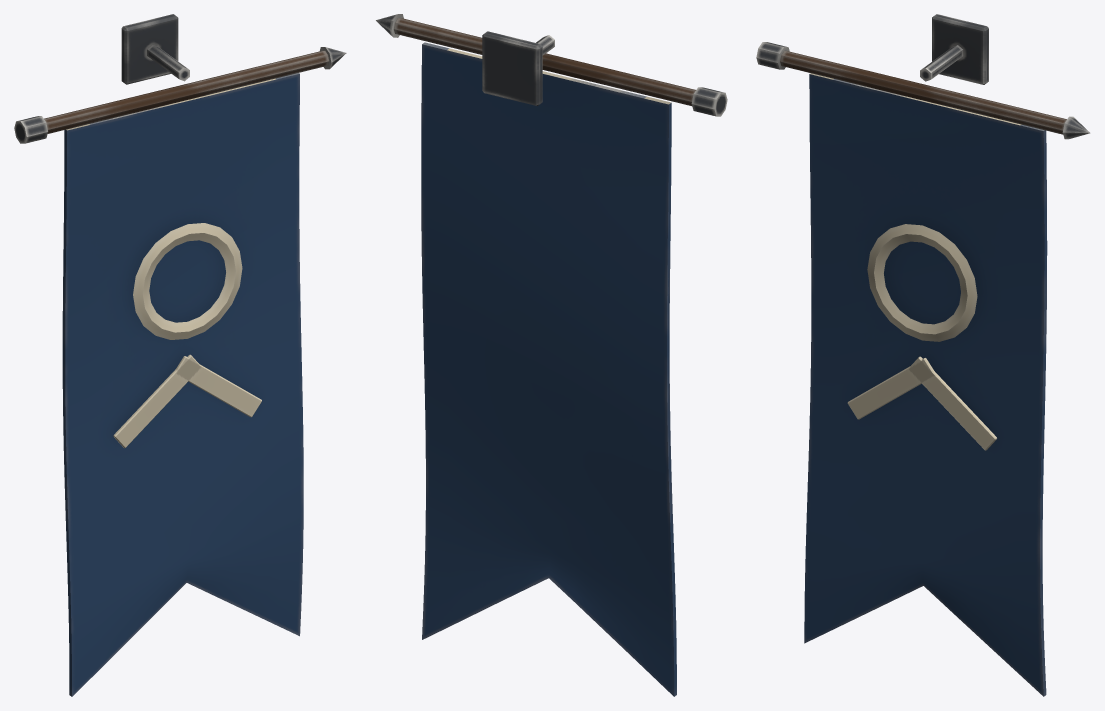
File: gallows_banner_steel.glb
The picture shows the model from 3 angles, left to right: view 1: azimuth 30°, elevation 25°; view 2: azimuth 150°, elevation 25°; view 3: azimuth 330°, elevation 25°; orthographic projection. The views are drawn at different scales.
Visible parts, largest first — view 1: gallows_banner_steel; view 2: gallows_banner_steel; view 3: gallows_banner_steel.
Boxes of the visible parts, x1,y1,x2,y2 form: gallows_banner_steel: (14, 14, 346, 696); gallows_banner_steel: (376, 14, 727, 696); gallows_banner_steel: (756, 14, 1090, 696).
Bounding box in the file's own units: 1.82 × 3.3 × 0.41.
1 material, 1 textured.
